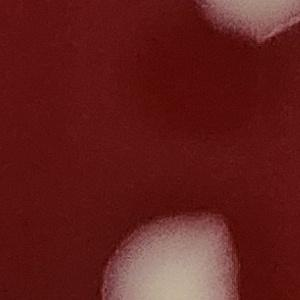colony: (96, 204, 249, 300), (186, 0, 300, 62)
